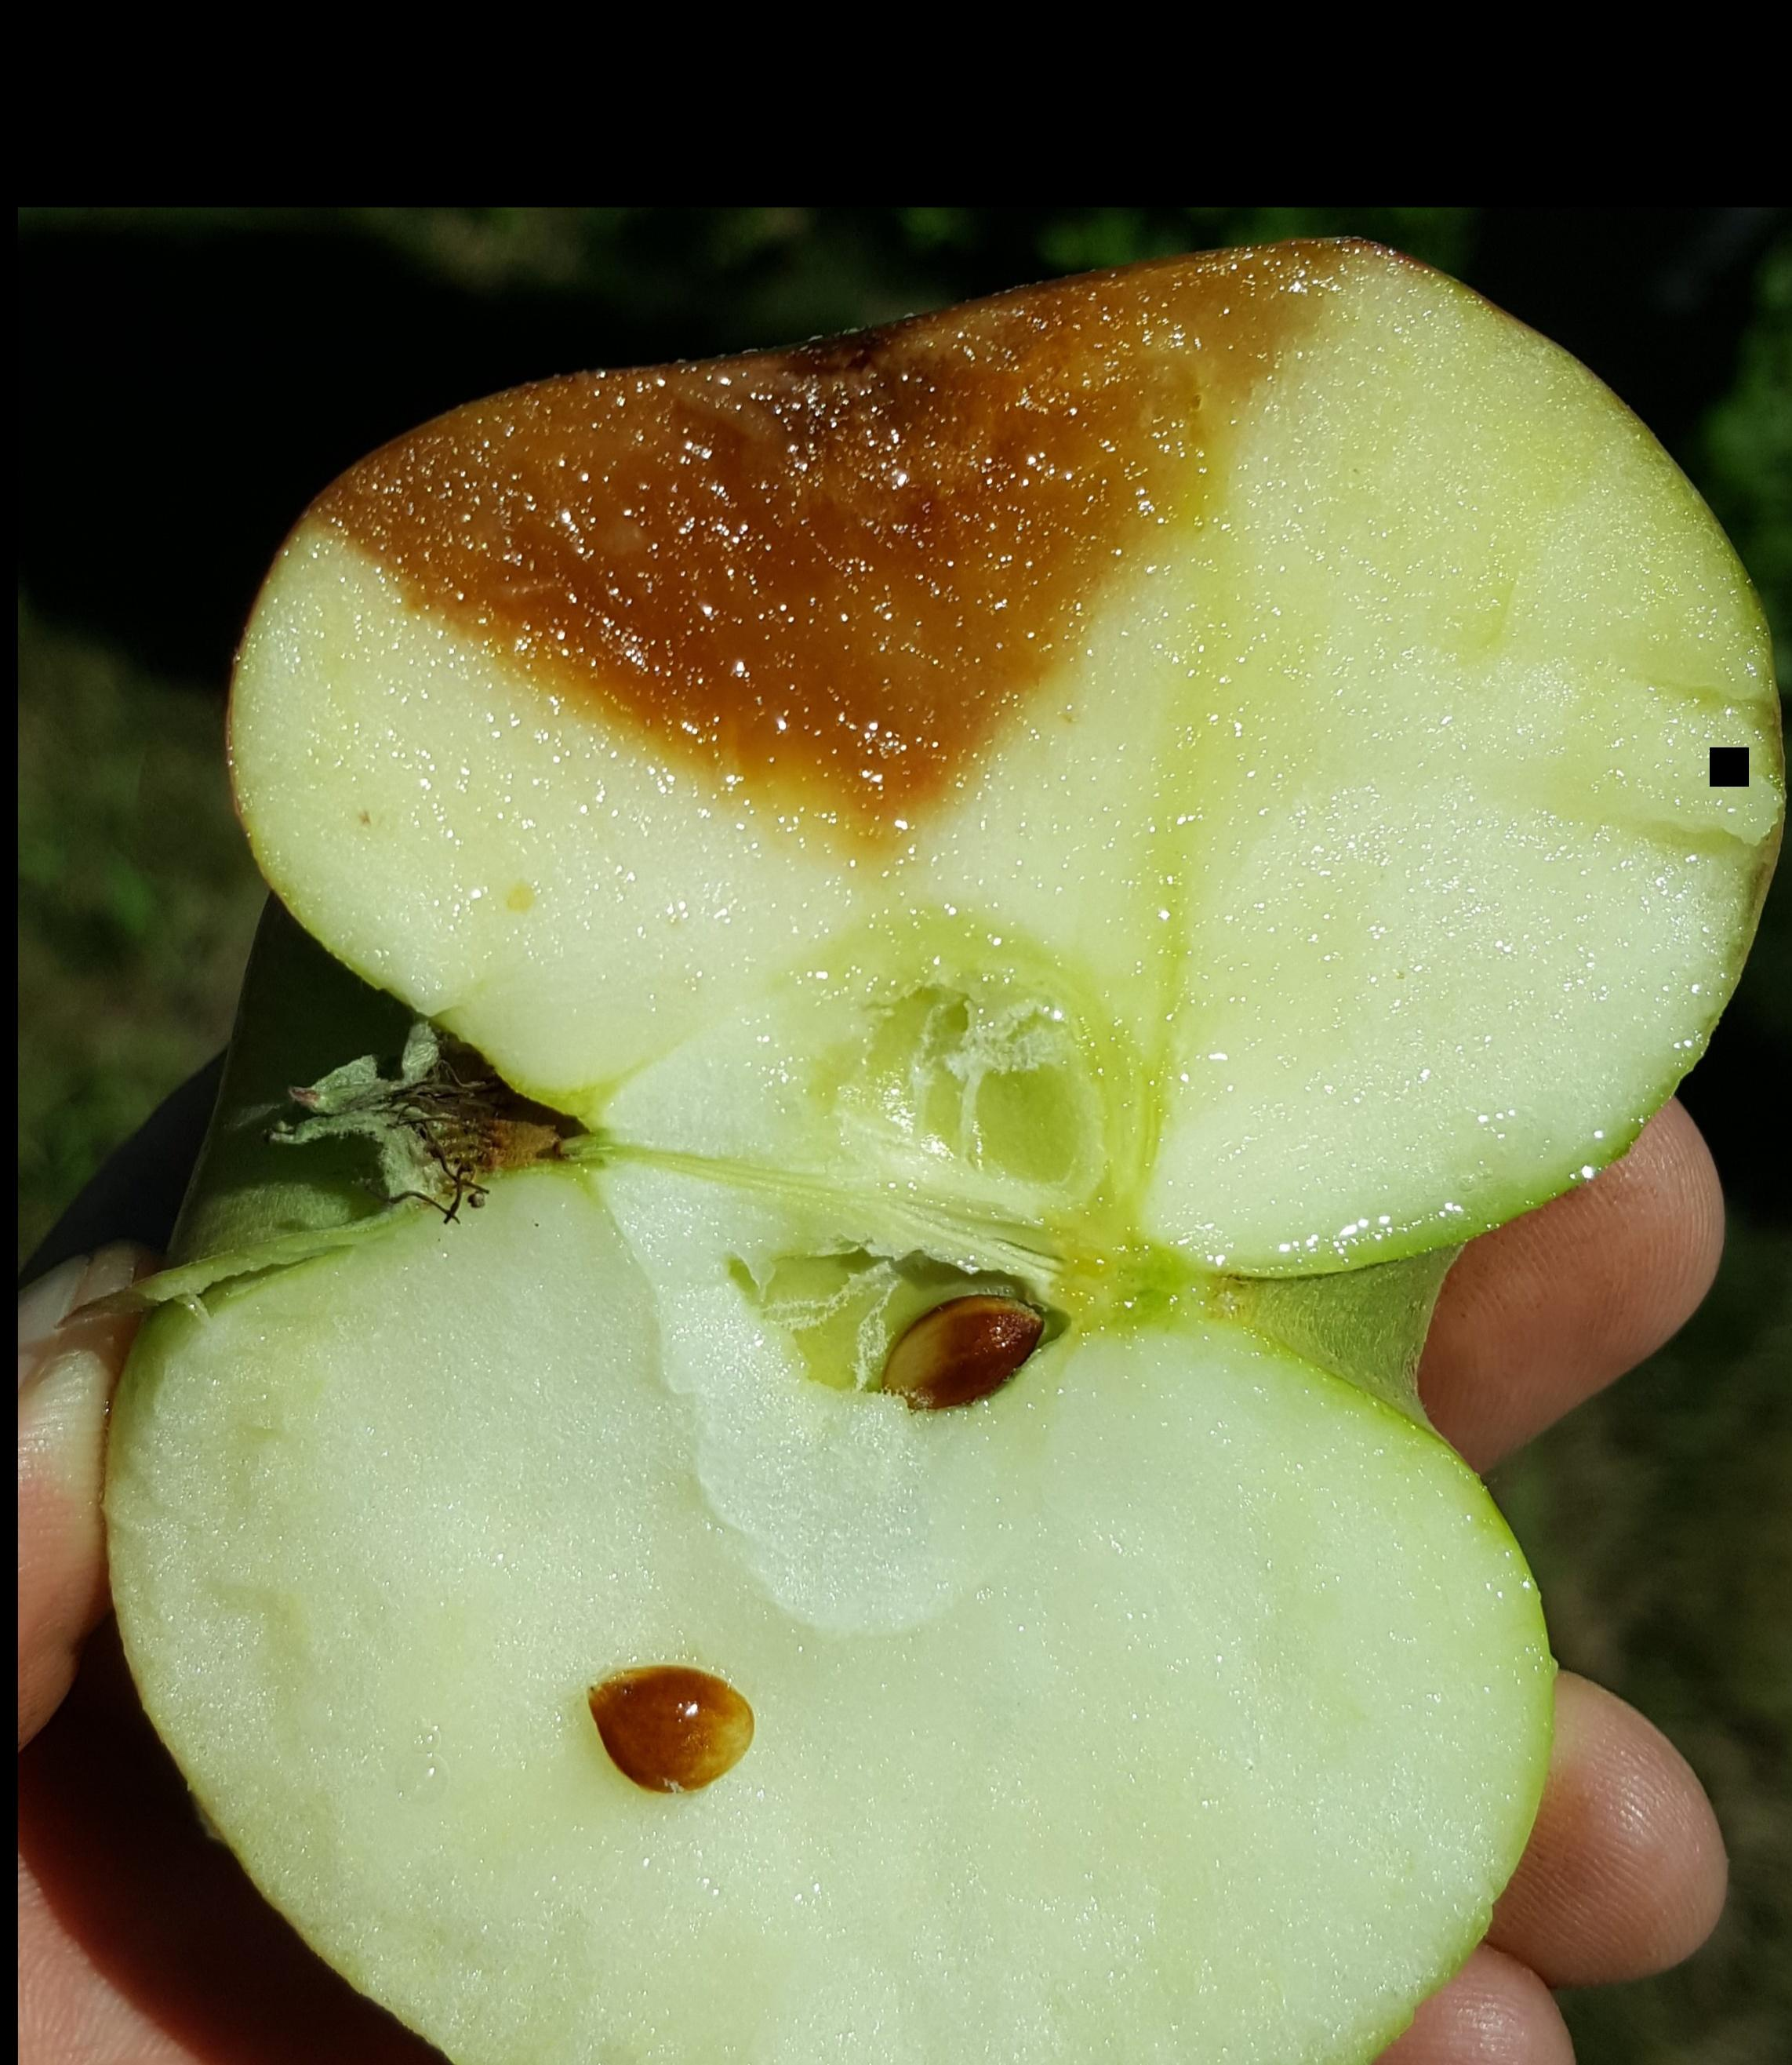rotten apple: (258, 307, 1588, 808)
